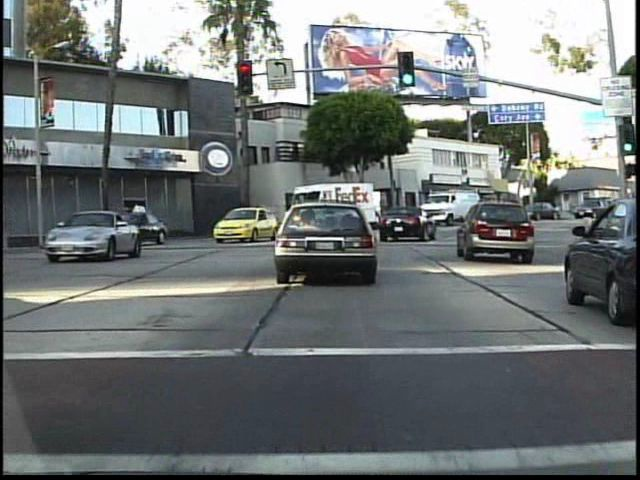person: (248, 201, 265, 230)
